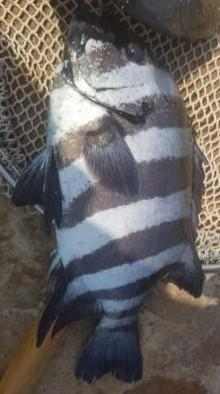fish: (14, 21, 204, 381)
